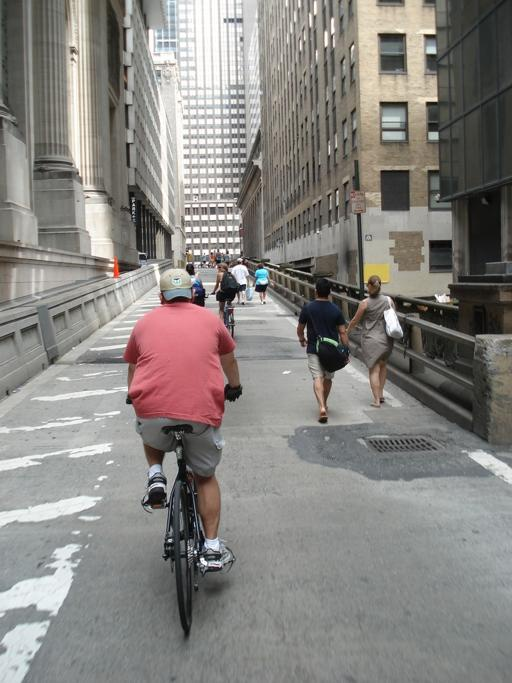non-vehicle: (126, 386, 244, 637), (210, 290, 235, 338)
